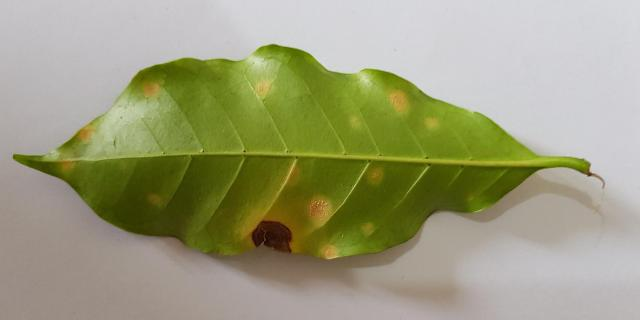miner: (235, 201, 310, 256), (307, 195, 335, 227), (277, 162, 300, 187), (387, 90, 410, 114), (313, 240, 341, 259), (252, 79, 275, 98), (75, 122, 96, 142), (142, 82, 160, 98), (367, 168, 383, 182), (59, 159, 74, 171), (148, 194, 161, 204), (425, 118, 438, 128), (362, 222, 373, 233)
